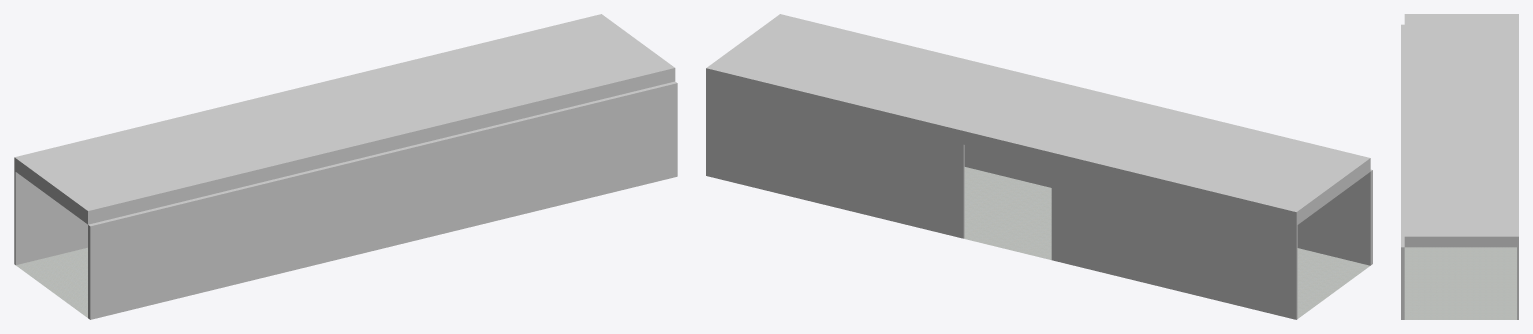
The model's file is pasillo_etsii_nv1.fbx.
The picture shows the model from 3 angles, left to right: view 1: azimuth 30°, elevation 25°; view 2: azimuth 150°, elevation 25°; view 3: azimuth 270°, elevation 25°; orthographic projection. The views are drawn at different scales.
Visible parts, largest first — view 1: Model; view 2: Model; view 3: Model.
Part boxes in pixels (left/top/right/bottom): Model: left=14, top=14, right=677, bottom=319; Model: left=706, top=14, right=1372, bottom=319; Model: left=1401, top=14, right=1518, bottom=319.
Bounding box in the file's own units: 26.26 × 4.58 × 5.88.
